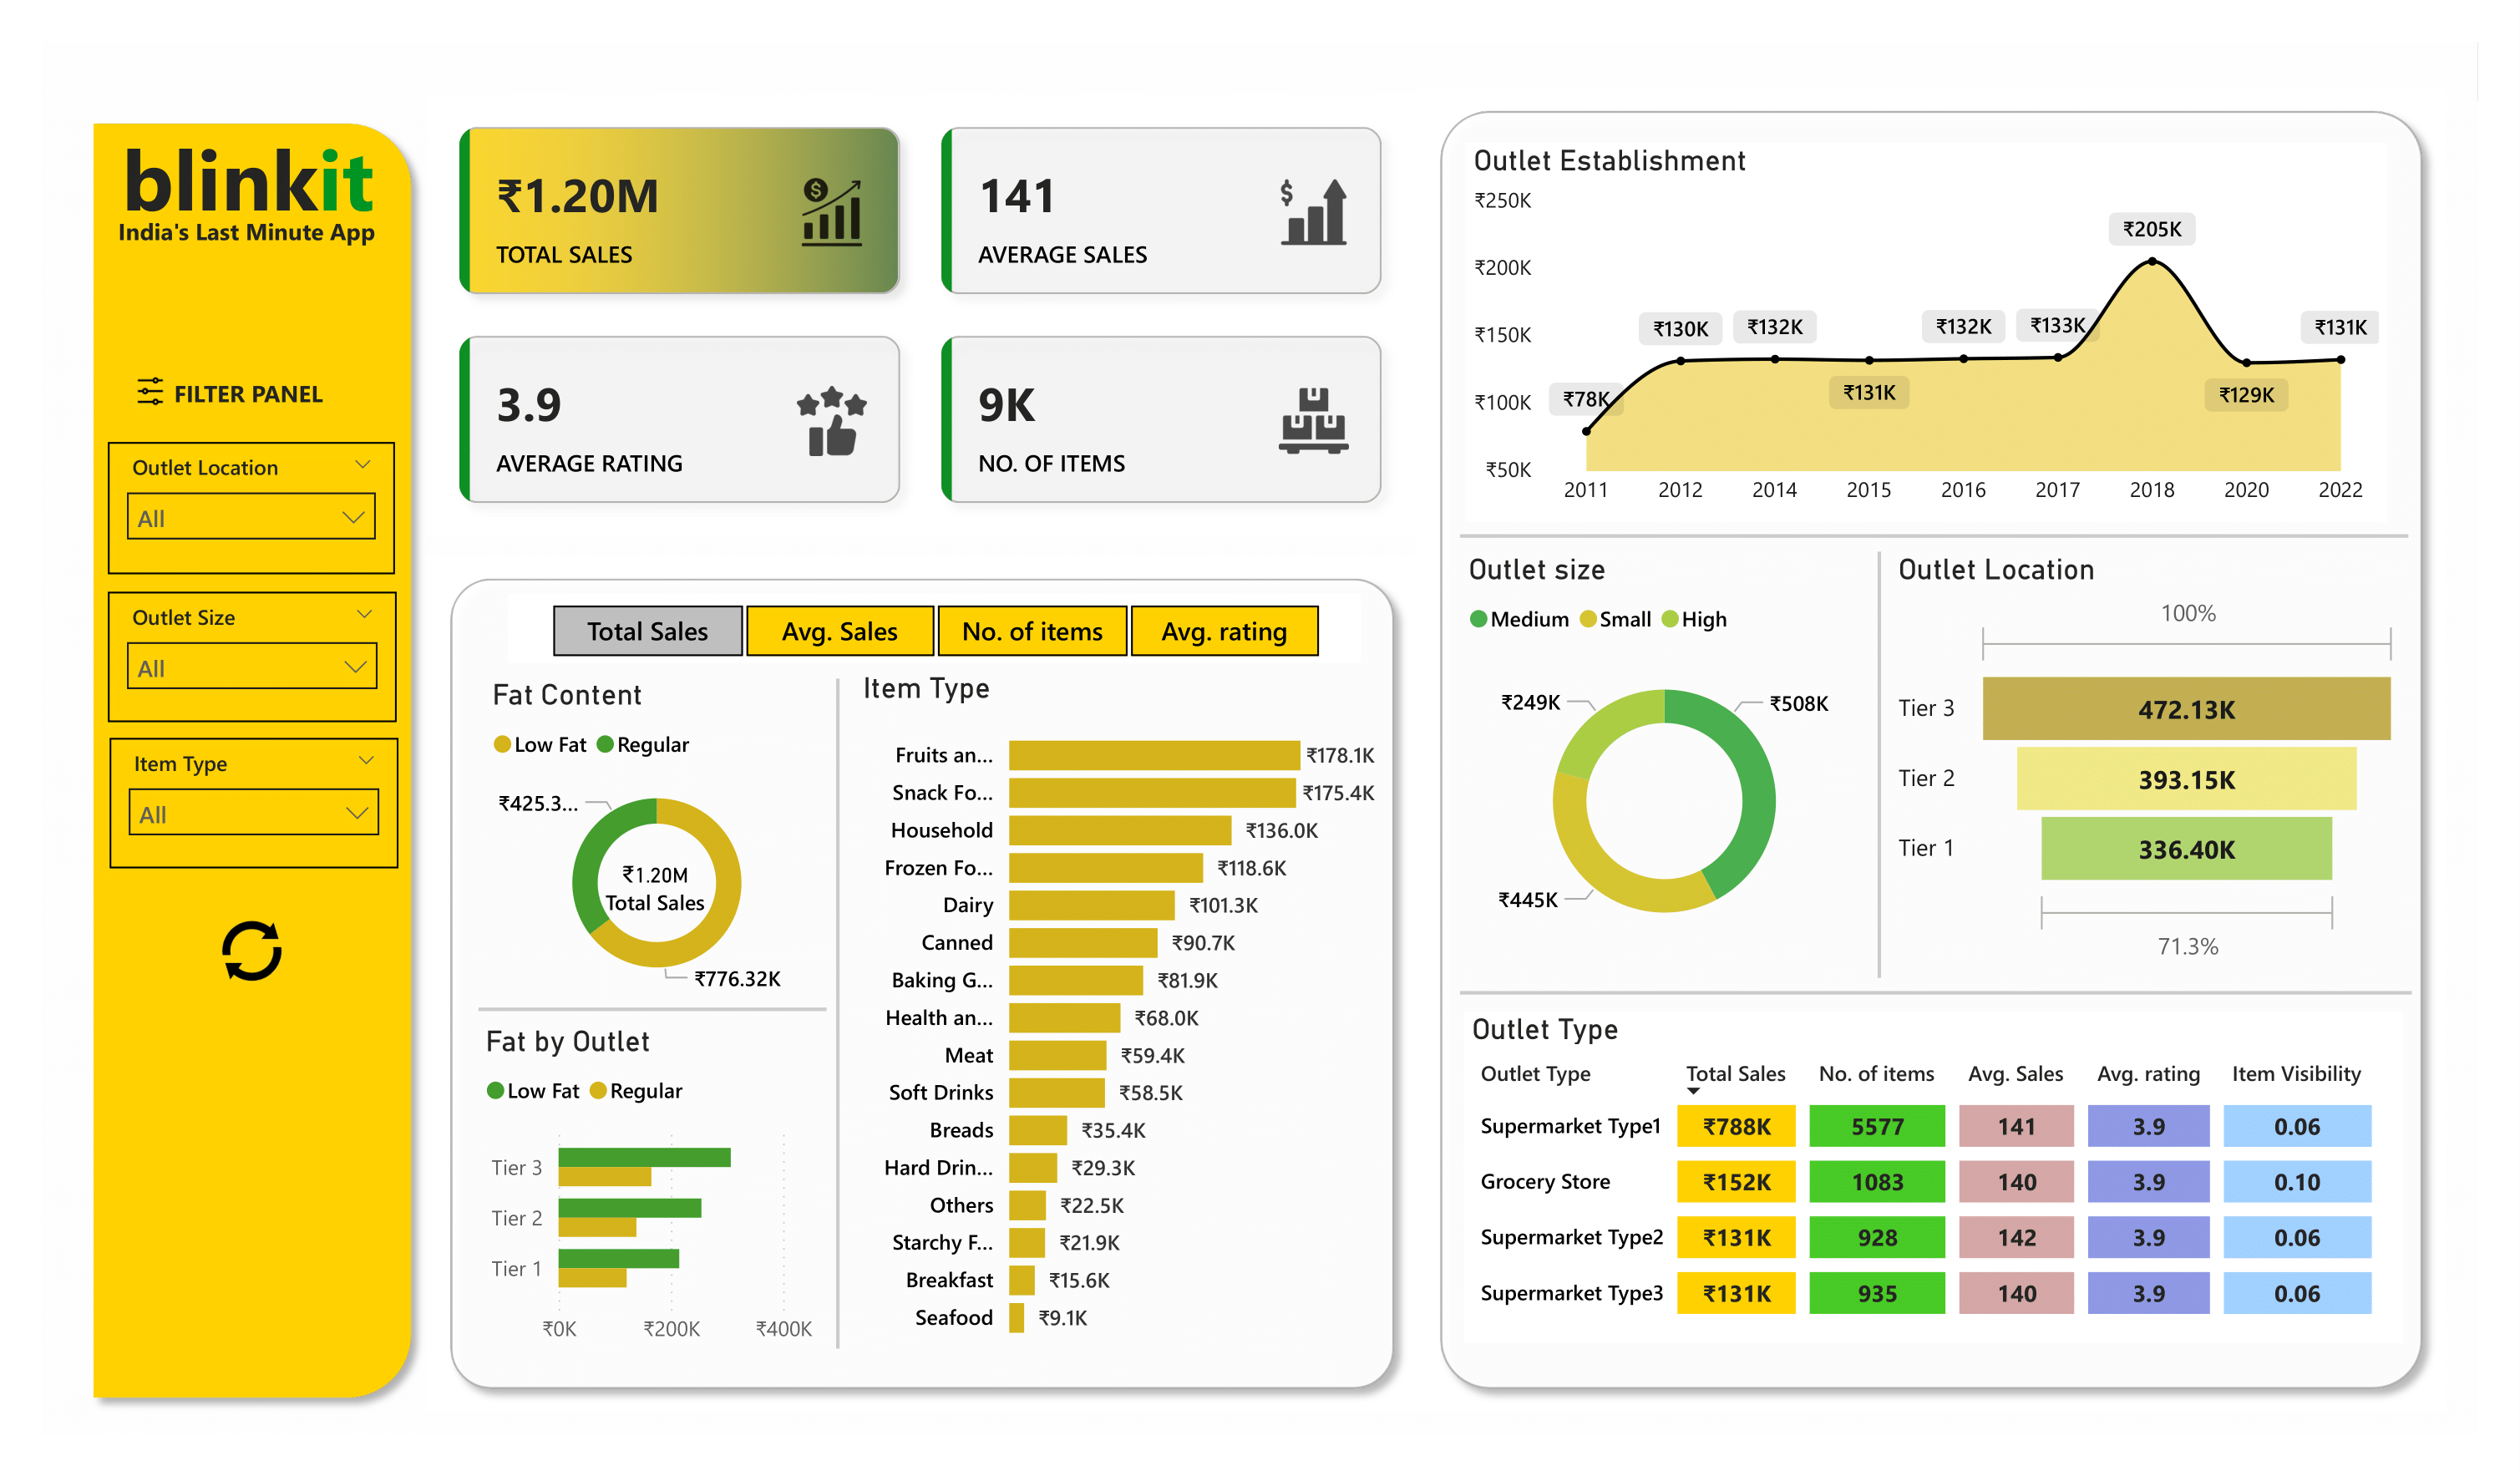

What the dashboard file says about the page in this screenshot:
{"tool":"powerbi","page":{"name":"Page 1","canvas":[1400,800],"ordinal":0},"visuals":[{"type":"shape","box":[20.9,38.2,200,750],"z":0},{"type":"textbox","box":[39,95,170,28],"z":1000},{"type":"textbox","box":[40.8,40,165,75],"z":2000},{"type":"pivotTable","fields":{"Values":["BlinkIT Grocery Data.Total Sales","BlinkIT Grocery Data.No. of items","BlinkIT Grocery Data.Avg. Sales","BlinkIT Grocery Data.Avg. rating","Sum(BlinkIT Grocery Data.Item Visibility)"],"Rows":["BlinkIT Grocery Data.Outlet Type"]},"box":[817.5,497.5,545,250],"z":3000},{"type":"shape","box":[221,295,570,493],"z":4000},{"type":"donutChart","title":"Fat Content","fields":{"Y":["BlinkIT Grocery Data.Total Sales"],"Category":["BlinkIT Grocery Data.Item Fat Content"]},"box":[253.6,364.5,199.1,190],"z":5000},{"type":"slicer","fields":{"Values":["Metric.Metric"]},"box":[267.9,316.8,490.6,39.8],"z":6000},{"type":"cardVisual","fields":{"Data":["BlinkIT Grocery Data.Total Sales"]},"box":[300,455,105,55],"z":7000},{"type":"clusteredBarChart","title":"Fat by Outlet","fields":{"Category":["BlinkIT Grocery Data.Outlet Location Type"],"Y":["BlinkIT Grocery Data.Total Sales"],"Series":["BlinkIT Grocery Data.Item Fat Content"]},"box":[250,564.4,197.8,193.3],"z":8000},{"type":"shape","box":[251.1,545.6,200,20],"z":9000},{"type":"shape","box":[448,366.2,18.8,385],"z":10000},{"type":"barChart","title":"Item Type","fields":{"Y":["BlinkIT Grocery Data.Total Sales"],"Category":["BlinkIT Grocery Data.Item Type"]},"box":[467.1,361.4,304.3,394.3],"z":11000},{"type":"shape","box":[790,25.6,592.2,762.2],"z":12000},{"type":"lineChart","title":"Outlet Establishment","fields":{"Y":["BlinkIT Grocery Data.Total Sales"],"Category":["BlinkIT Grocery Data.Outlet Establishment Year"]},"box":[817.5,57.5,530,218.8],"z":13000},{"type":"shape","box":[815,278.8,545,10],"z":14000},{"type":"donutChart","title":"Outlet size","fields":{"Y":["BlinkIT Grocery Data.Total Sales"],"Category":["BlinkIT Grocery Data.Outlet Size"]},"box":[815,293.3,235,240],"z":15000},{"type":"shape","box":[1050,293.3,11.7,245],"z":16000},{"type":"funnel","title":"Outlet Location","fields":{"Y":["Sum(BlinkIT Grocery Data.Sales)"],"Category":["BlinkIT Grocery Data.Outlet Location Type"]},"box":[1061.7,293.3,298.3,241.7],"z":17000},{"type":"shape","box":[815,533.3,546.7,26.7],"z":18000},{"type":"pivotTable","title":"Outlet Type","fields":{"Rows":["BlinkIT Grocery Data.Outlet Type"],"Values":["BlinkIT Grocery Data.Total Sales","BlinkIT Grocery Data.No. of items","BlinkIT Grocery Data.Avg. Sales","BlinkIT Grocery Data.Avg. rating","Avg(BlinkIT Grocery Data.Item Visibility)"]},"box":[816.7,556.7,540,191.7],"z":19000},{"type":"cardVisual","fields":{"Data":["BlinkIT Grocery Data.Total Sales","BlinkIT Grocery Data.Avg. Sales","BlinkIT Grocery Data.Avg. rating","BlinkIT Grocery Data.No. of items"]},"box":[220.9,30,568.9,254.4],"z":20000},{"type":"slicer","fields":{"Values":["BlinkIT Grocery Data.Outlet Location Type"]},"box":[37.8,230,165.6,75.6],"z":21000},{"type":"slicer","fields":{"Values":["BlinkIT Grocery Data.Outlet Size"]},"box":[38.2,316.4,165.5,74.5],"z":22000},{"type":"slicer","fields":{"Values":["BlinkIT Grocery Data.Item Type"]},"box":[39.1,400,165.5,75.5],"z":23000},{"type":"textbox","box":[71.1,187.8,105.6,28.9],"z":24000},{"type":"image","box":[46.2,186.9,33.1,29.4],"z":25000},{"type":"actionButton","box":[101.1,502.2,40,40],"z":25001}]}

Visuals, with their boxes on the page's 1400x800 design canvas (x1, y1, x2, y2). These are canvas units, not pixel positions in the 2520x1476 screenshot, which may show the page scaled, cropped or inside an application window:
shape: Rect(21, 38, 221, 788)
textbox: Rect(39, 95, 209, 123)
textbox: Rect(41, 40, 206, 115)
pivotTable - BlinkIT Grocery Data.Total Sales x BlinkIT Grocery Data.No. of items: Rect(818, 498, 1362, 748)
shape: Rect(221, 295, 791, 788)
"Fat Content" donutChart: Rect(254, 364, 453, 554)
slicer - Metric.Metric: Rect(268, 317, 758, 357)
cardVisual - BlinkIT Grocery Data.Total Sales: Rect(300, 455, 405, 510)
"Fat by Outlet" clusteredBarChart: Rect(250, 564, 448, 758)
shape: Rect(251, 546, 451, 566)
shape: Rect(448, 366, 467, 751)
"Item Type" barChart: Rect(467, 361, 771, 756)
shape: Rect(790, 26, 1382, 788)
"Outlet Establishment" lineChart: Rect(818, 58, 1348, 276)
shape: Rect(815, 279, 1360, 289)
"Outlet size" donutChart: Rect(815, 293, 1050, 533)
shape: Rect(1050, 293, 1062, 538)
"Outlet Location" funnel: Rect(1062, 293, 1360, 535)
shape: Rect(815, 533, 1362, 560)
"Outlet Type" pivotTable: Rect(817, 557, 1357, 748)
cardVisual - BlinkIT Grocery Data.Total Sales x BlinkIT Grocery Data.Avg. Sales: Rect(221, 30, 790, 284)
slicer - BlinkIT Grocery Data.Outlet Location Type: Rect(38, 230, 203, 306)
slicer - BlinkIT Grocery Data.Outlet Size: Rect(38, 316, 204, 391)
slicer - BlinkIT Grocery Data.Item Type: Rect(39, 400, 205, 476)
textbox: Rect(71, 188, 177, 217)
image: Rect(46, 187, 79, 216)
actionButton: Rect(101, 502, 141, 542)
